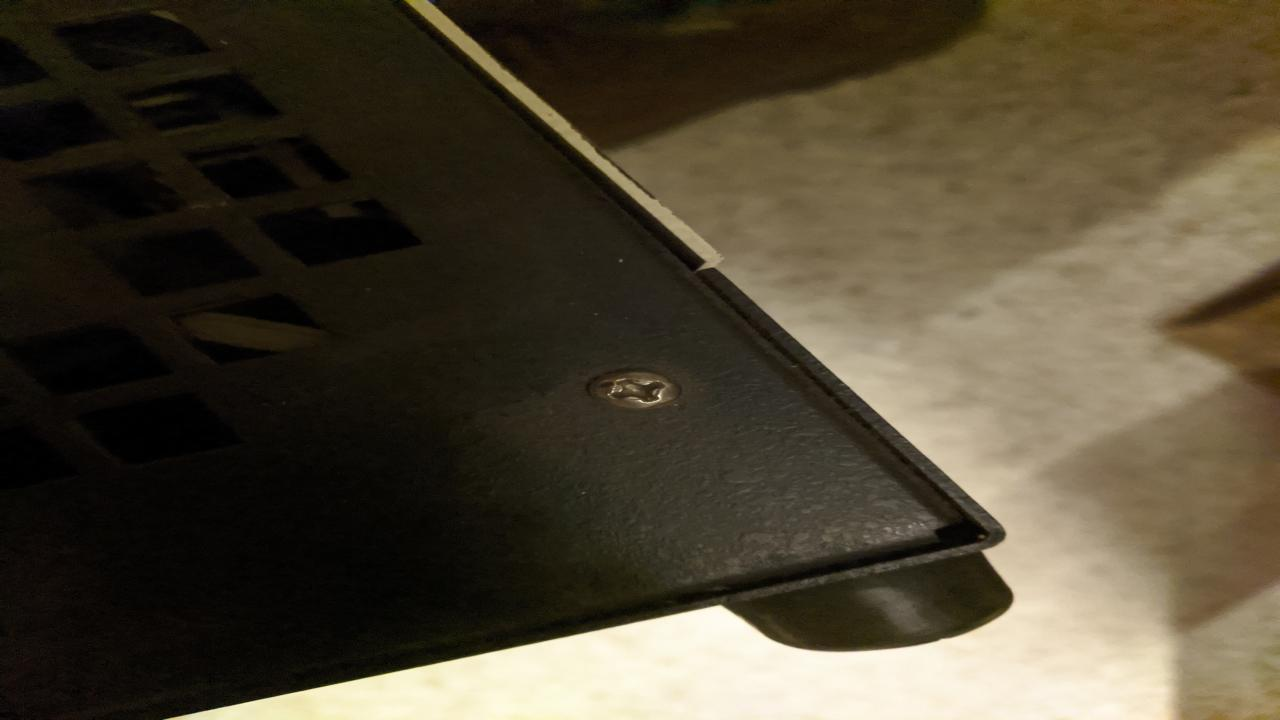CRS: (580, 367, 684, 411)
